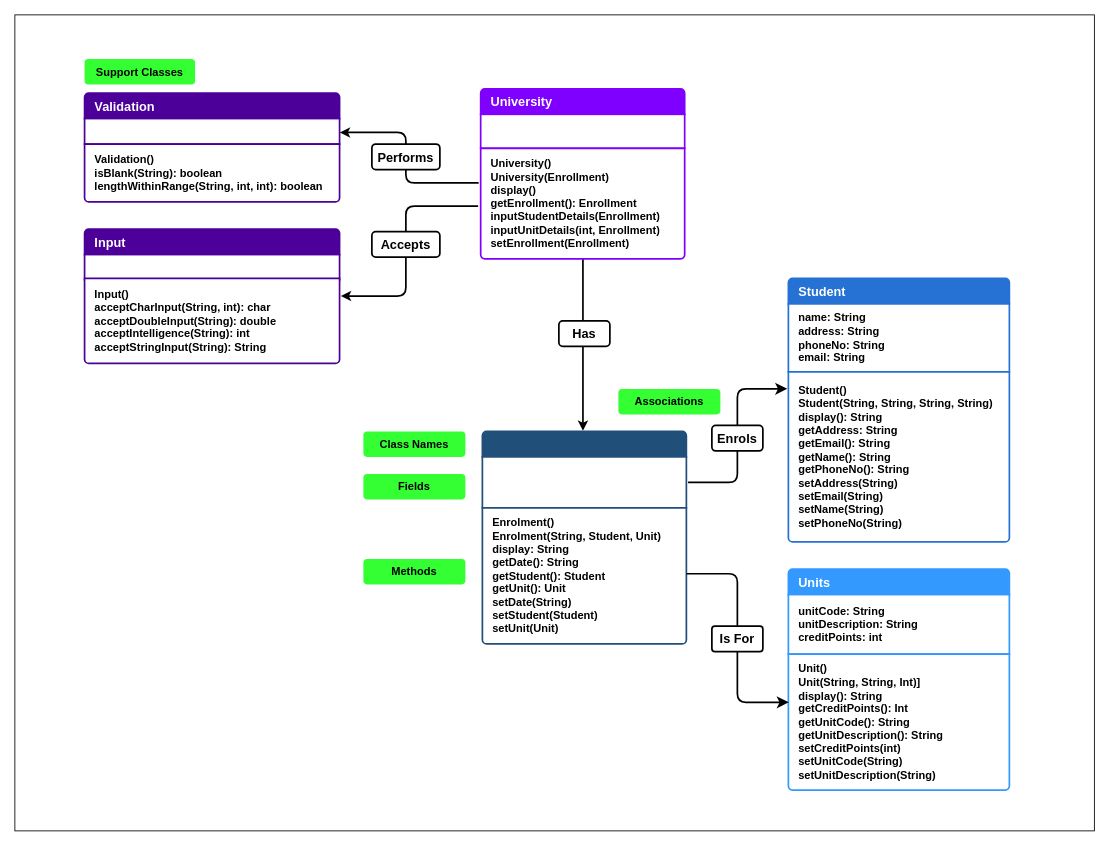
Image size: 1109x846. Some labels were removed from this diagram. Each missing label, with the centre of its shape:
"date: String student: Student unit: Unit" belongs at point (584, 482).
"Enrollment" belongs at point (584, 443).
"enrollment: Enrollment" belongs at point (582, 131).
